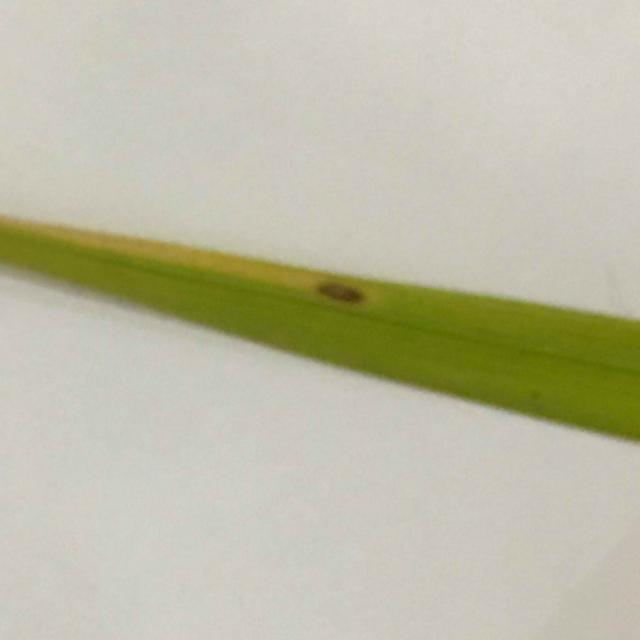Blast: (322, 276, 369, 308)
